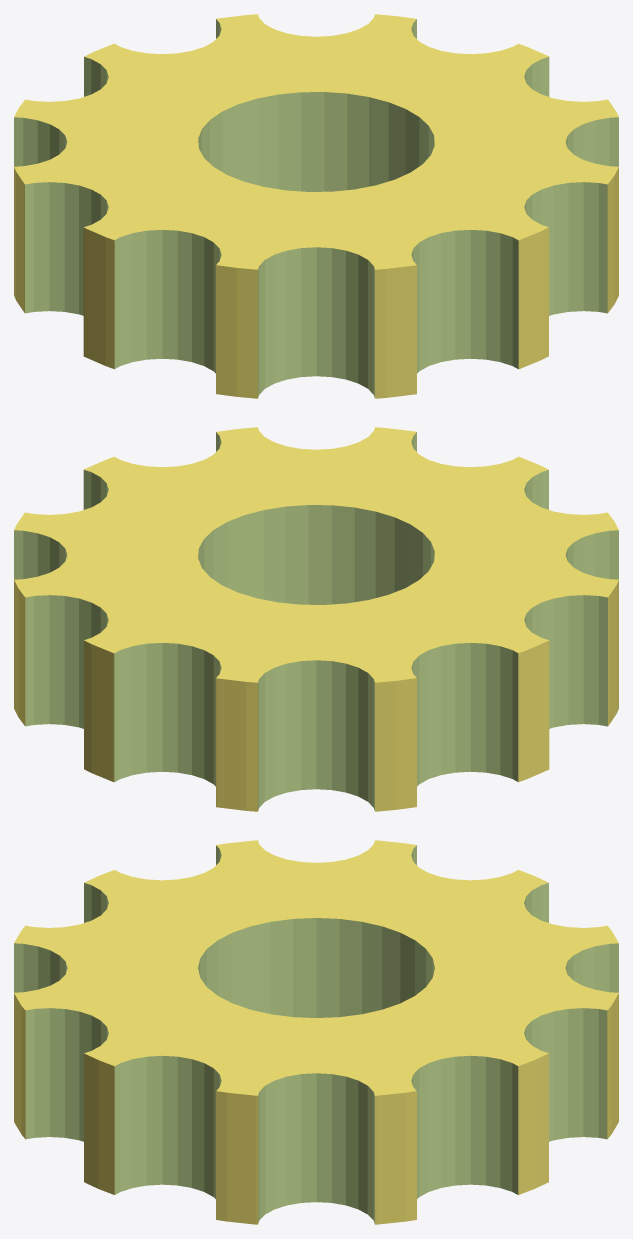
File: sprocket.glb
3 views of the same model, one above another, from view 1: azimuth 30°, elevation 25°; view 2: azimuth 150°, elevation 25°; view 3: azimuth 270°, elevation 25° (orthographic).
Size of the model in its own units: 25.52 by 6 by 25.52.
